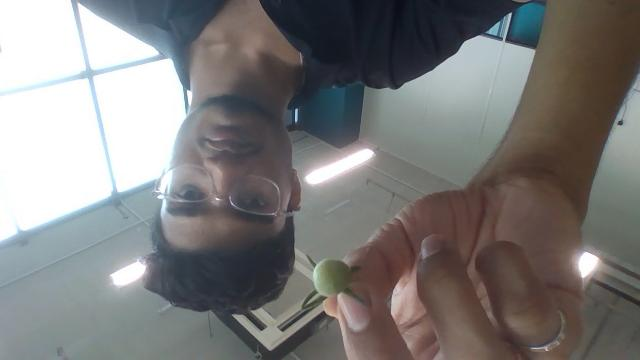Fruit Maturation: (313, 258, 353, 298)
